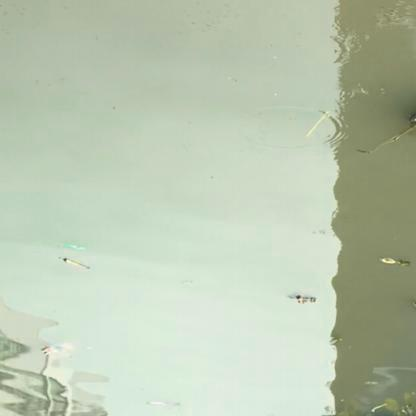Trash: (34, 336, 76, 362), (61, 237, 84, 257)
